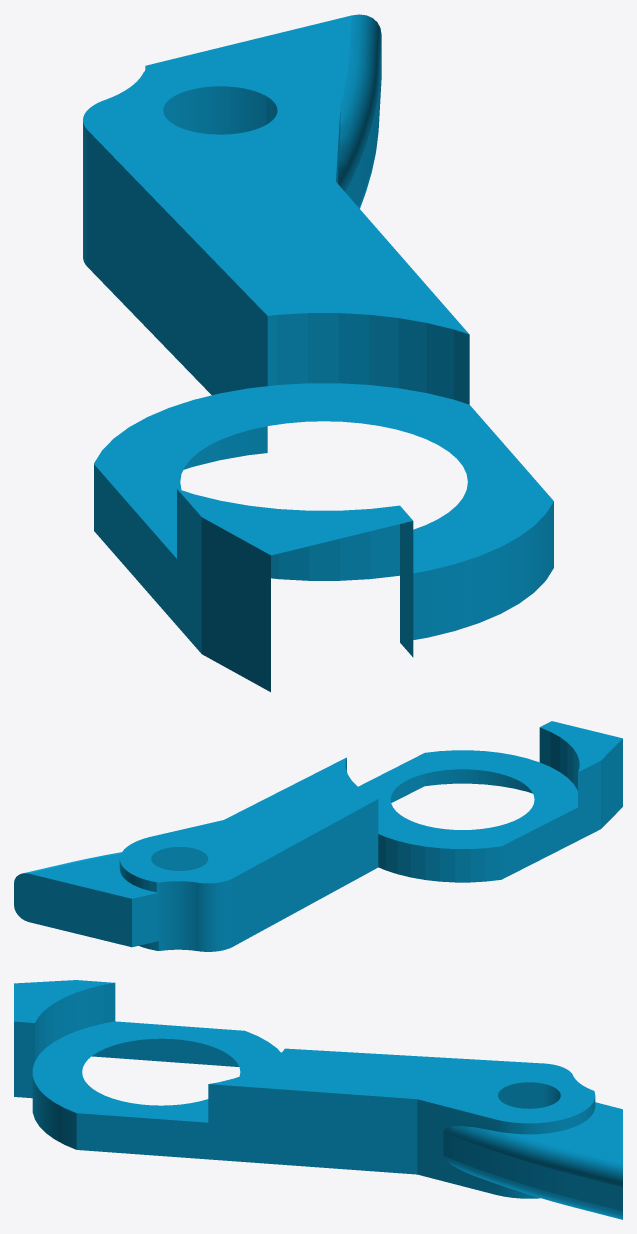
Rendered from original-39.obj.
3 renders of one model, top to bottom at view 1: azimuth 30°, elevation 25°; view 2: azimuth 150°, elevation 25°; view 3: azimuth 270°, elevation 25°, orthographic. The views are drawn at different scales.
Parts seen in each view (by area): view 1: #ID384; view 2: #ID384; view 3: #ID384.
Boxes of the visible parts, left/top/right/bottom form: #ID384: left=83, top=14, right=553, bottom=692; #ID384: left=14, top=721, right=622, bottom=951; #ID384: left=14, top=980, right=622, bottom=1219.
Bounding box in the file's own units: 0.2896 × 0.056 × 0.4103.
